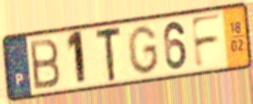1: (65, 29, 88, 88)
6: (162, 20, 189, 72)
B: (28, 37, 62, 92)
F: (189, 11, 223, 71)
G: (126, 24, 161, 77)
T: (95, 24, 123, 84)
